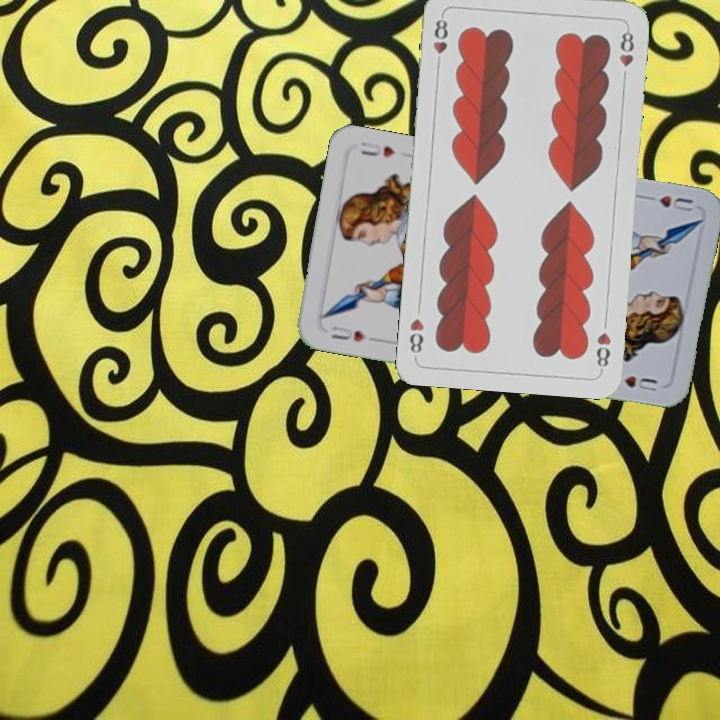H8: (429, 11, 451, 70), (592, 328, 614, 373)
HU: (639, 191, 697, 215), (325, 322, 368, 344)
